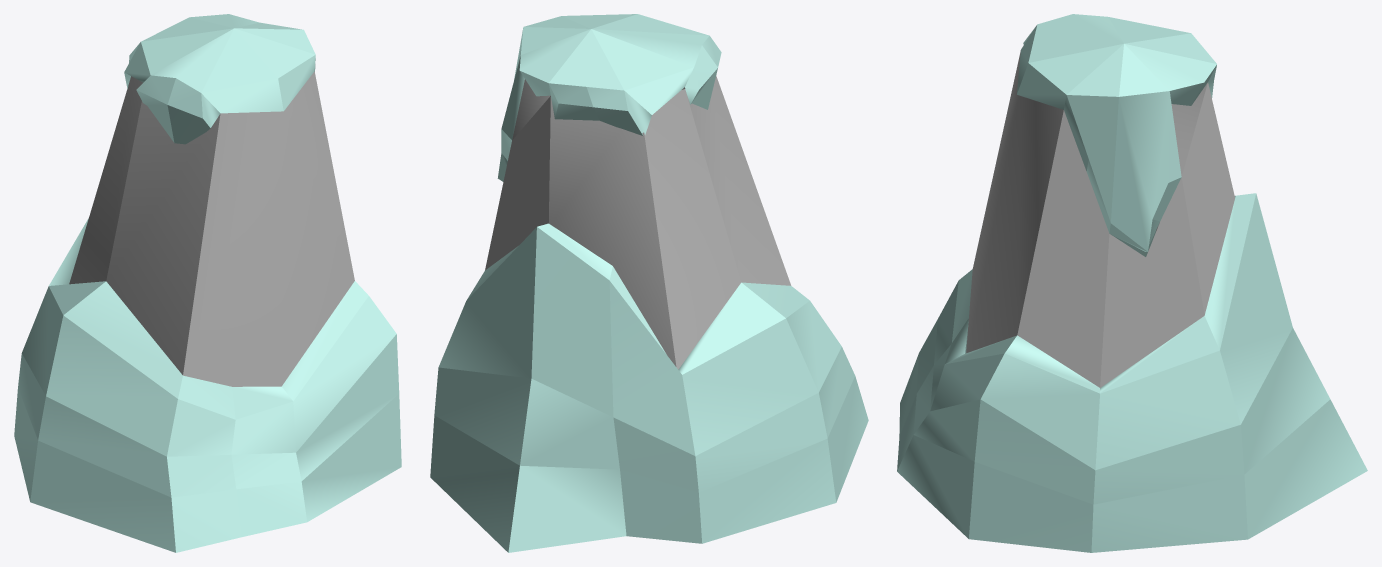
Rendered from Rock4.FBX.
3 views of the same model, side by side, from view 1: azimuth 30°, elevation 25°; view 2: azimuth 150°, elevation 25°; view 3: azimuth 270°, elevation 25° (orthographic). The views are drawn at different scales.
Visible parts, largest first — view 1: Rock4_B, Rock4; view 2: Rock4_B, Rock4; view 3: Rock4_B, Rock4.
Part boxes in pixels (x1,y1,x2,y2): Rock4_B: (14,14,401,552); Rock4: (69,71,354,386); Rock4_B: (430,14,868,552); Rock4: (485,76,791,369); Rock4_B: (897,14,1367,552); Rock4: (966,50,1234,387).
Size of the model in its own units: 4491 by 5158 by 4951.
